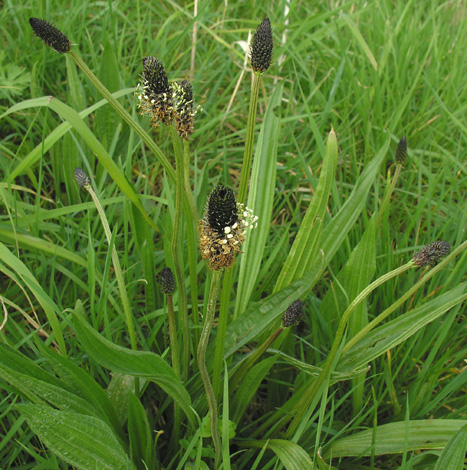buckhorn plantain: (13, 19, 446, 470)
